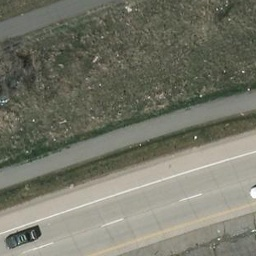car: (5, 225, 40, 253)
